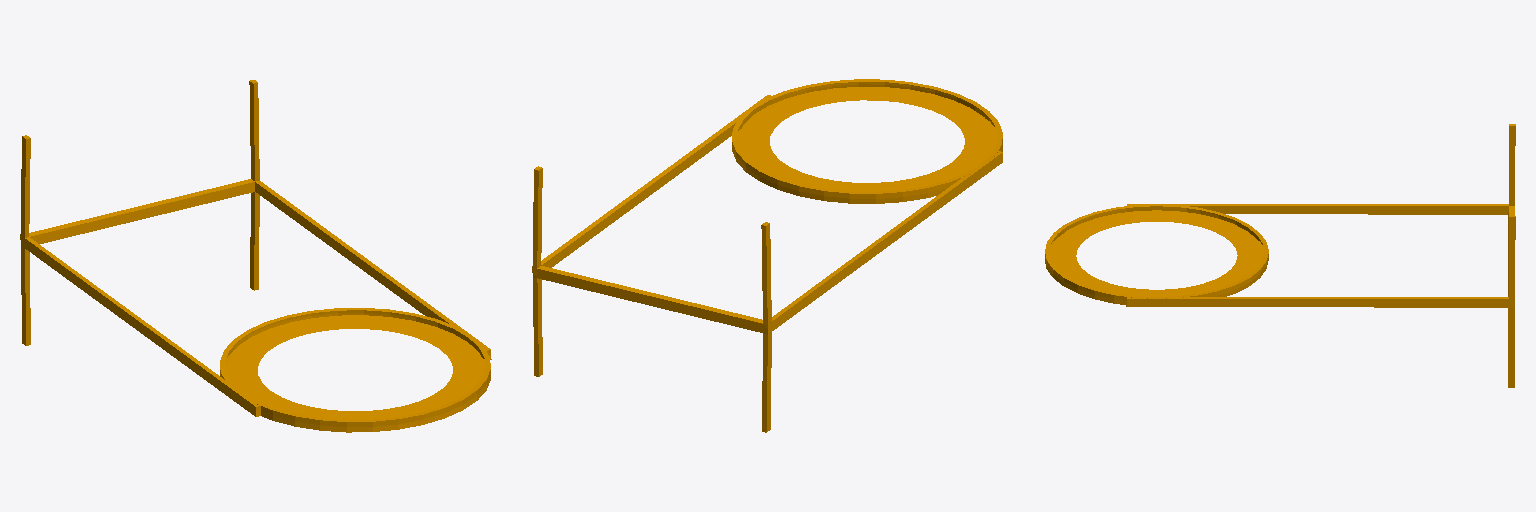
The robot description file, URDF, robot "circle2_5m":
<?xml version='1.0' encoding='UTF-8'?>
<robot name="circle2_5m">
  <link name="base_link">
    <visual name="base_link_visual">
      <geometry>
        <mesh filename="circleX2.5m.dae" scale="1. 1. 1."/>
      </geometry>
      <origin xyz="0 0 0" rpy="1.57 0 0"/>
    </visual>
    <collision name="base_link_collision">
      <geometry>
        <mesh filename="circleX2.5m.dae" scale="1. 1. 1."/>
      </geometry>
      <origin xyz="0 0 0" rpy="1.57 0 0"/>
    </collision>
  </link>
</robot>

--- What the picture shows (computed from the rendered views, not written in the file) ---
Views: 3 orthographic renders of the robot side by side, from view 1: azimuth 30°, elevation 25°; view 2: azimuth 150°, elevation 25°; view 3: azimuth 270°, elevation 25°.
Robot: circle2_5m — 1 links, 0 joints (none); root link base_link; default pose: all joints at 0.
Links seen in each view (by area): view 1: base_link; view 2: base_link; view 3: base_link.
Link boxes in pixels (x1=…): base_link: x1=20, y1=80, x2=491, y2=432; base_link: x1=532, y1=79, x2=1002, y2=432; base_link: x1=1045, y1=124, x2=1515, y2=387.
Bounding box of the posed robot: 1.25 × 2.63 × 1.05 m (x, y, z).
Meshes: 1 distinct files referenced, 1 mesh visuals loaded (1 Collada DAE).